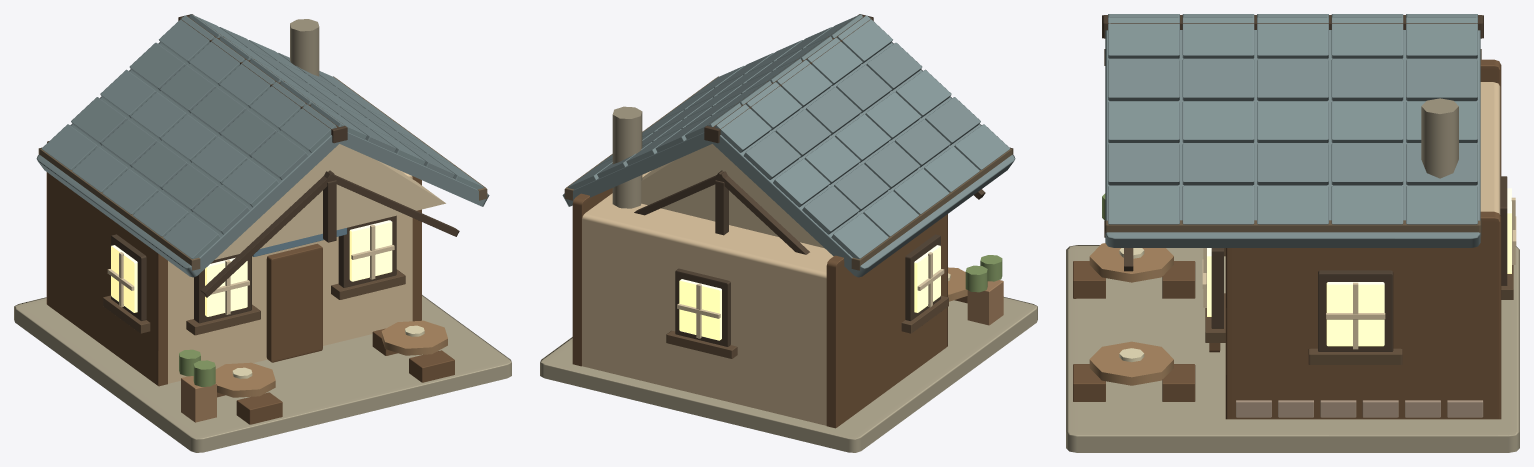
Rendered from restaurant-2.glb.
The picture shows the model from 3 angles, left to right: view 1: azimuth 30°, elevation 25°; view 2: azimuth 150°, elevation 25°; view 3: azimuth 270°, elevation 25°; orthographic projection. The views are drawn at different scales.
Parts seen in each view (by area): view 1: restaurant-2-0; view 2: restaurant-2-0; view 3: restaurant-2-0.
Part boxes in pixels (<box>): restaurant-2-0: <box>14,14,511,452</box>; restaurant-2-0: <box>540,14,1037,452</box>; restaurant-2-0: <box>1066,14,1519,452</box>.
Size of the model in its own units: 2.9 by 2.41 by 2.9.
